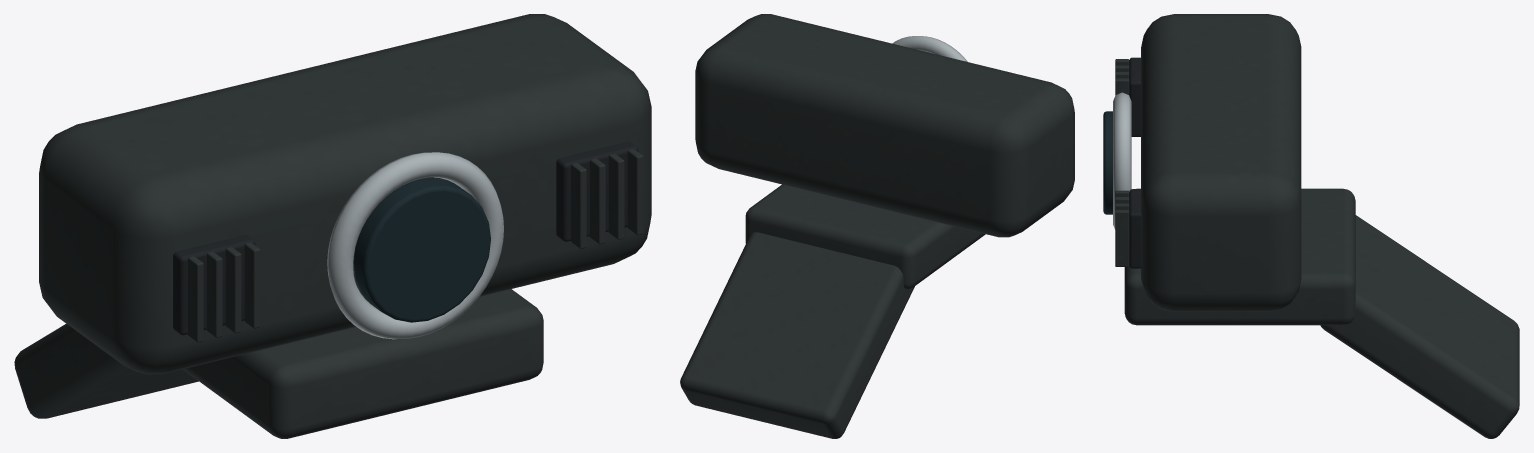
The model's file is camera.glb.
The picture shows the model from 3 angles, left to right: view 1: azimuth 30°, elevation 25°; view 2: azimuth 150°, elevation 25°; view 3: azimuth 270°, elevation 25°; orthographic projection. The views are drawn at different scales.
Visible parts, largest first — view 1: Wide webcam enclosure, Monitor clip upper jaw, Webcam optical glass, Webcam lens bezel, Hinged monitor clip, Dark grille backing.001, Dark grille backing, Grille rib.003, Grille rib.006, Grille rib.002, Grille rib.001, Grille rib.005 (+3 smaller); view 2: Wide webcam enclosure, Hinged monitor clip, Monitor clip upper jaw, Webcam lens bezel; view 3: Wide webcam enclosure, Hinged monitor clip, Monitor clip upper jaw, Webcam lens bezel, Webcam optical glass, Dark grille backing.001, Dark grille backing, Grille rib.007.
Boxes of the visible parts, bbox=[...] form: Wide webcam enclosure: bbox=[39, 14, 651, 374]; Monitor clip upper jaw: bbox=[183, 289, 543, 438]; Webcam optical glass: bbox=[353, 178, 490, 322]; Webcam lens bezel: bbox=[327, 152, 503, 339]; Hinged monitor clip: bbox=[14, 323, 198, 418]; Dark grille backing.001: bbox=[556, 141, 638, 241]; Dark grille backing: bbox=[173, 235, 255, 335]; Grille rib.003: bbox=[244, 242, 260, 328]; Grille rib.006: bbox=[608, 153, 624, 239]; Grille rib.002: bbox=[225, 247, 241, 333]; Grille rib.001: bbox=[206, 251, 222, 337]; Grille rib.005: bbox=[589, 158, 605, 244]; Wide webcam enclosure: bbox=[695, 14, 1074, 237]; Hinged monitor clip: bbox=[680, 232, 914, 438]; Monitor clip upper jaw: bbox=[745, 184, 985, 289]; Webcam lens bezel: bbox=[892, 36, 967, 61]; Wide webcam enclosure: bbox=[1141, 14, 1301, 311]; Hinged monitor clip: bbox=[1320, 215, 1519, 438]; Monitor clip upper jaw: bbox=[1124, 188, 1355, 325]; Webcam lens bezel: bbox=[1113, 92, 1131, 229]; Webcam optical glass: bbox=[1103, 111, 1112, 214]; Dark grille backing.001: bbox=[1129, 189, 1141, 268]; Dark grille backing: bbox=[1129, 57, 1140, 136]; Grille rib.007: bbox=[1115, 210, 1129, 266].
Size of the model in its own units: 0.092 by 0.0714 by 0.0883.
4 materials, 4 textured.
